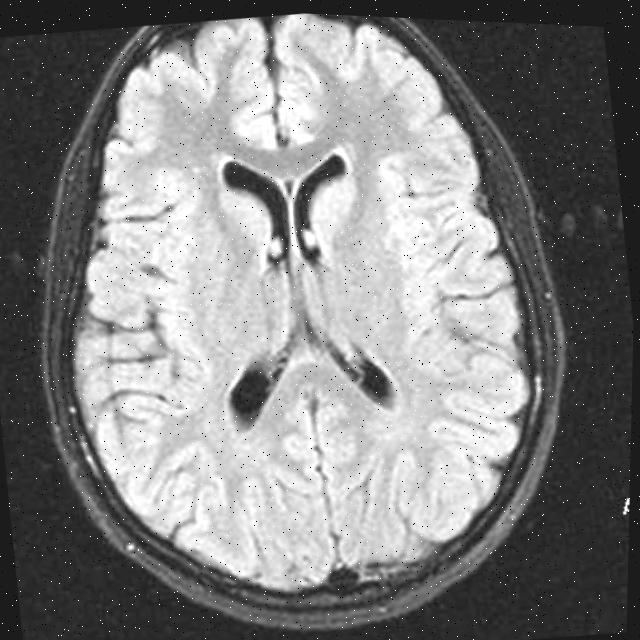NoTumor: (0, 0, 607, 640)
